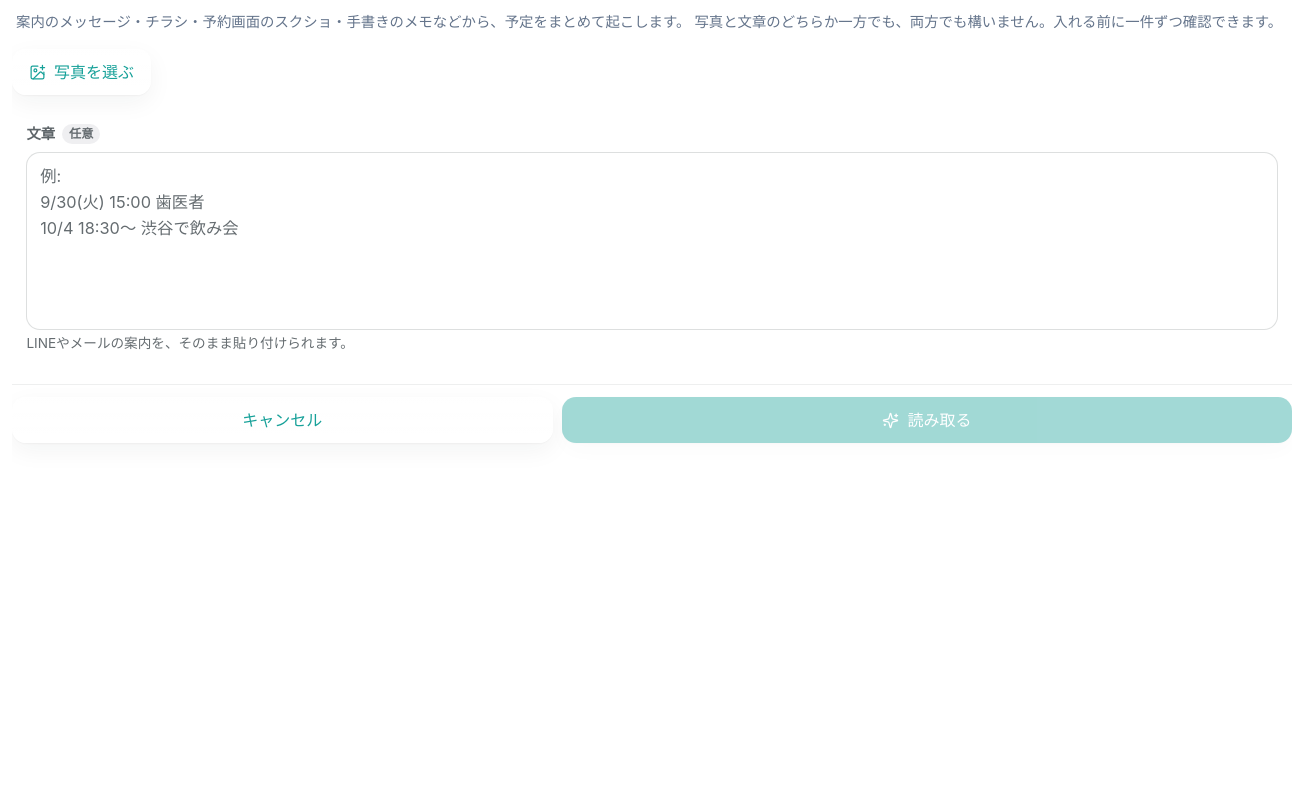
写真・文章から予定を作る画面 › 読み取った内容を、そのまま保存せず確認させる
In the text box with placeholder "例: 9/30(火) 15:00 歯医者 10/4 18:30〜 渋谷で飲み会": [652, 241] box x1=26 y1=152 x2=1278 y2=330, type "9/30 15:00 歯医者"
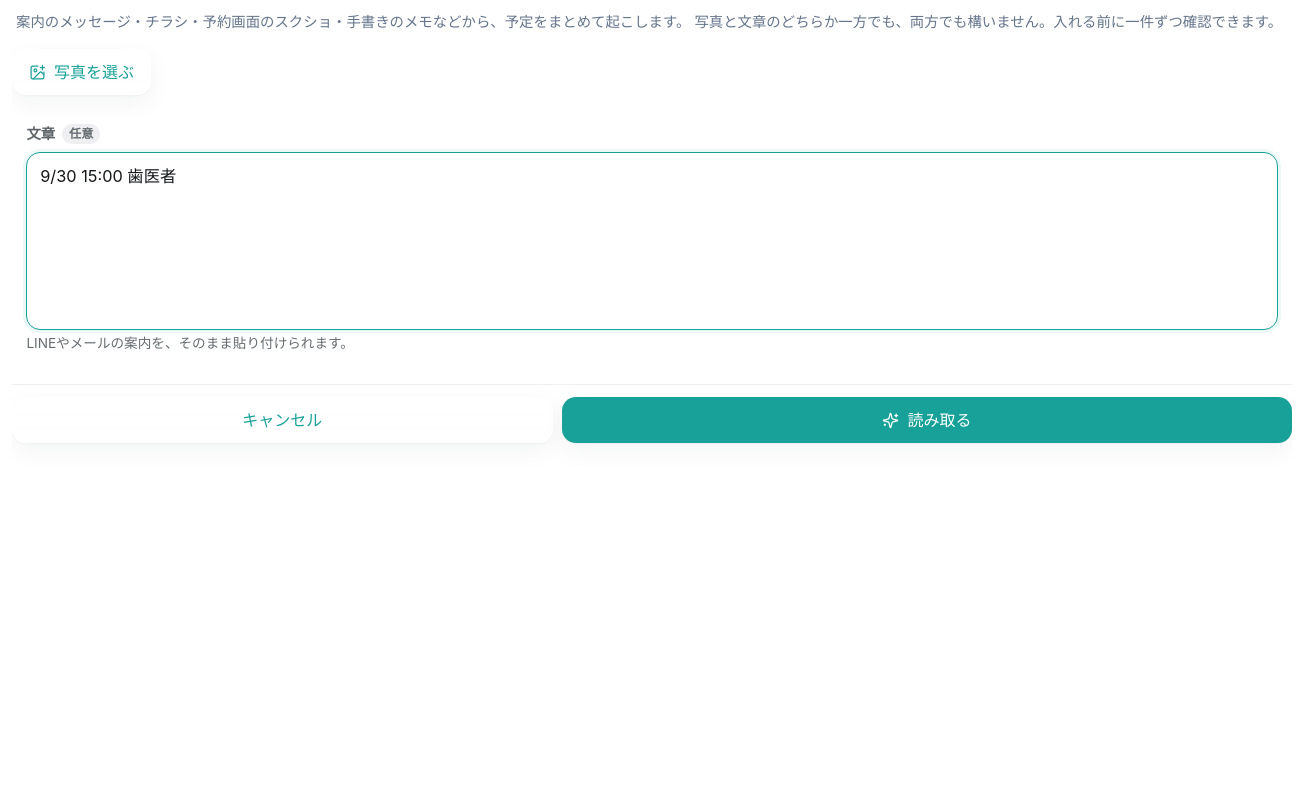
Click the button "読み取る": [927, 420] box x1=562 y1=397 x2=1292 y2=443
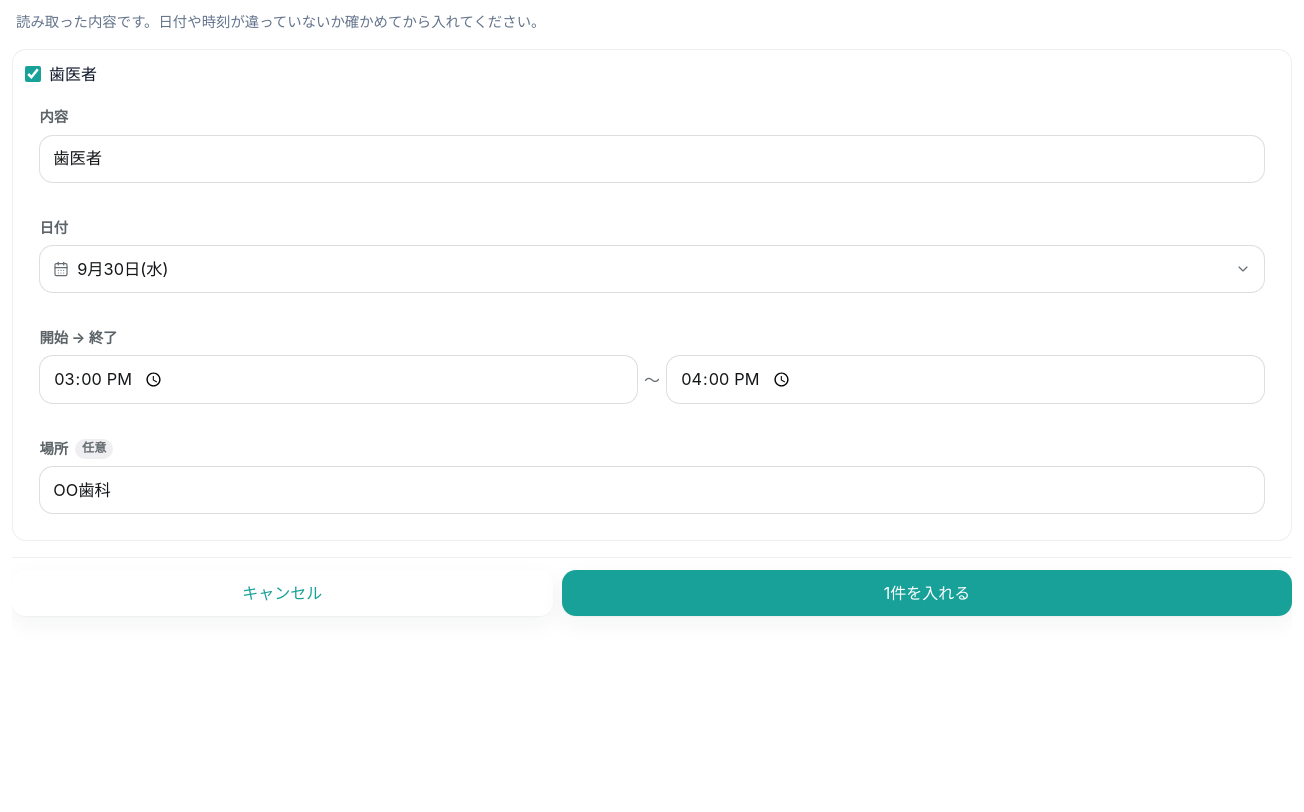
Check: the field showing "歯医者" is shown, box x1=39 y1=135 x2=1265 y2=183
